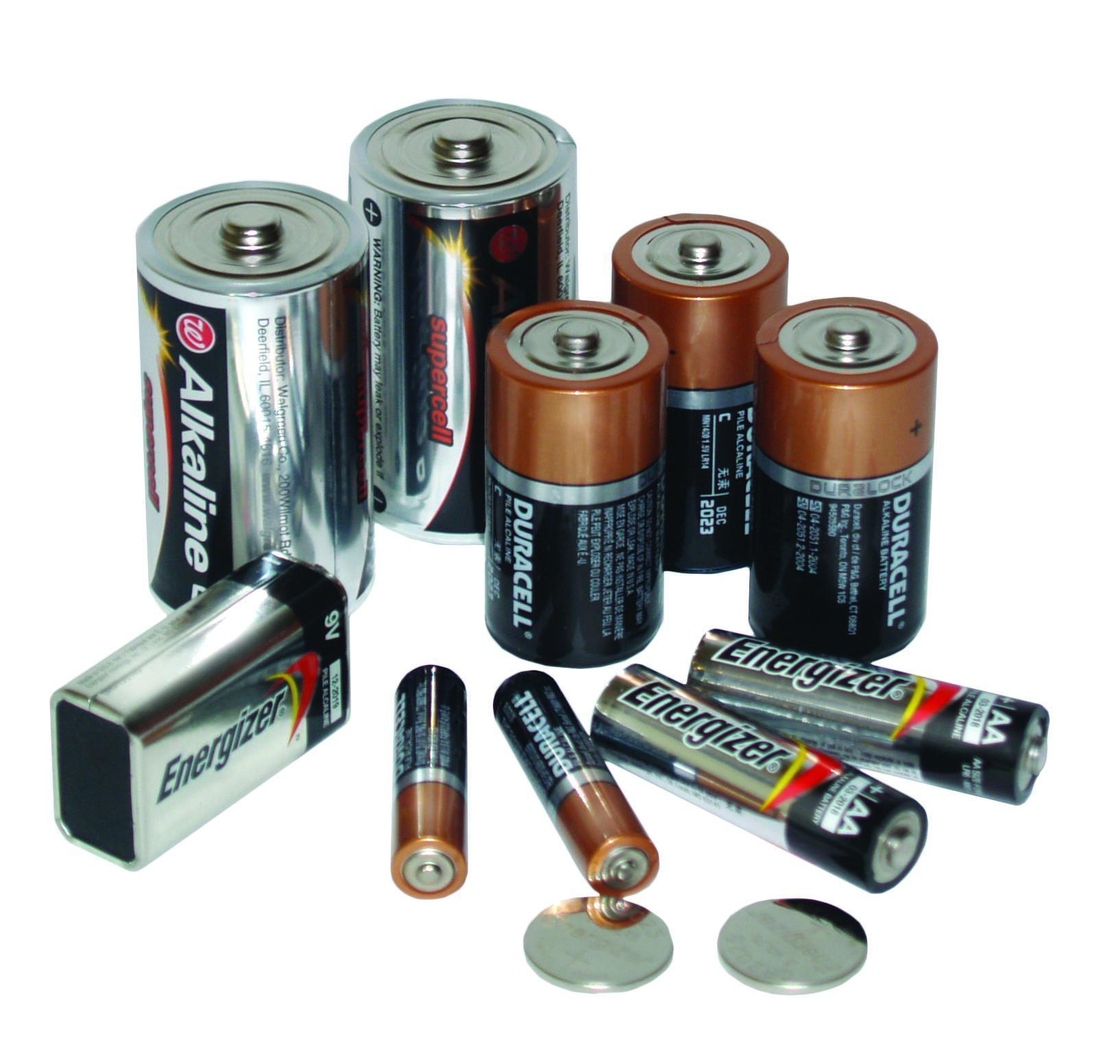AA: (583, 661, 935, 897), (686, 619, 1057, 810)
AAA: (490, 666, 665, 897), (386, 661, 475, 906)
COIN: (517, 891, 681, 999), (714, 895, 872, 999)
